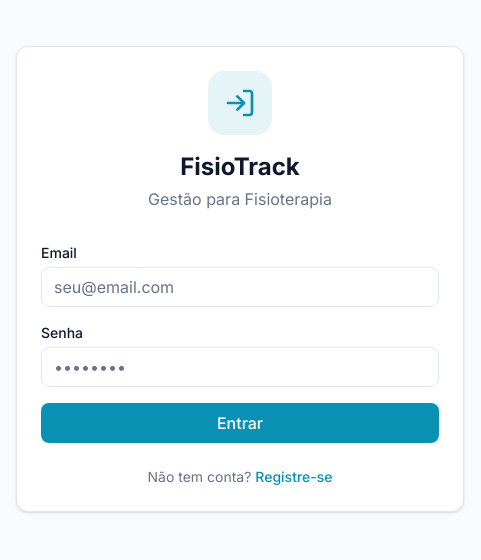
Test: Login › should display API error message
This screenshot has width=481, height=560.
Type "test@test.com" into the field labelled "Email".
click(240, 287); type("test@test.com")  # box [41,267,439,307]
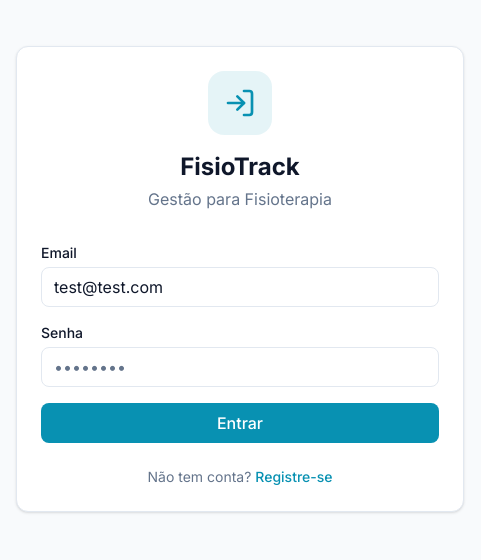
Type "password123" into the password field labelled "Senha".
click(240, 367); type("password123")  # box [41,347,439,387]
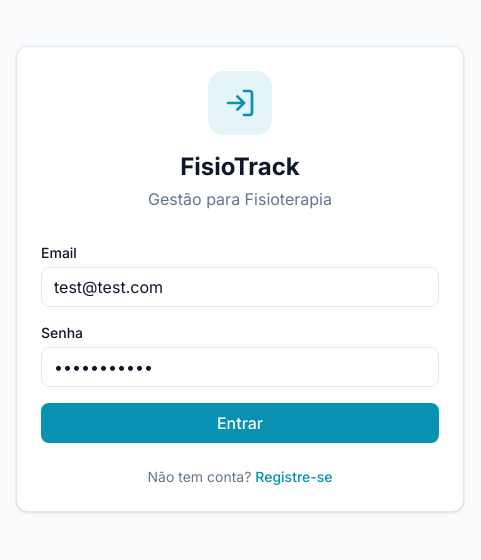
Click the button "Entrar".
click(240, 423)  # box [41,403,439,443]
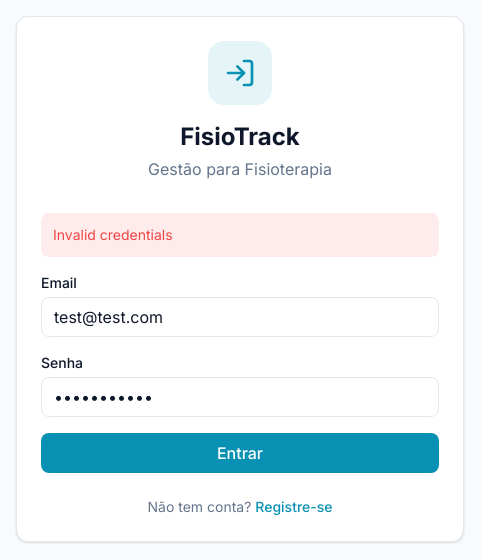
Expected: the text "Invalid credentials" is shown, [41,213,439,257]
